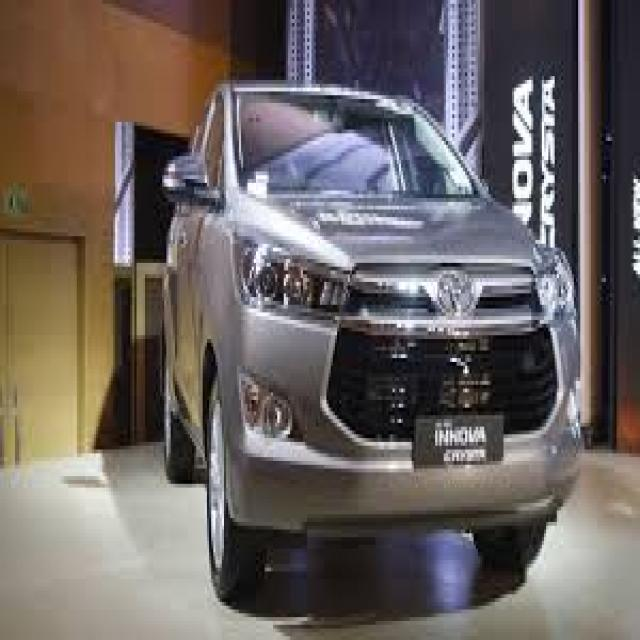light_vehicle: (163, 78, 584, 603)
